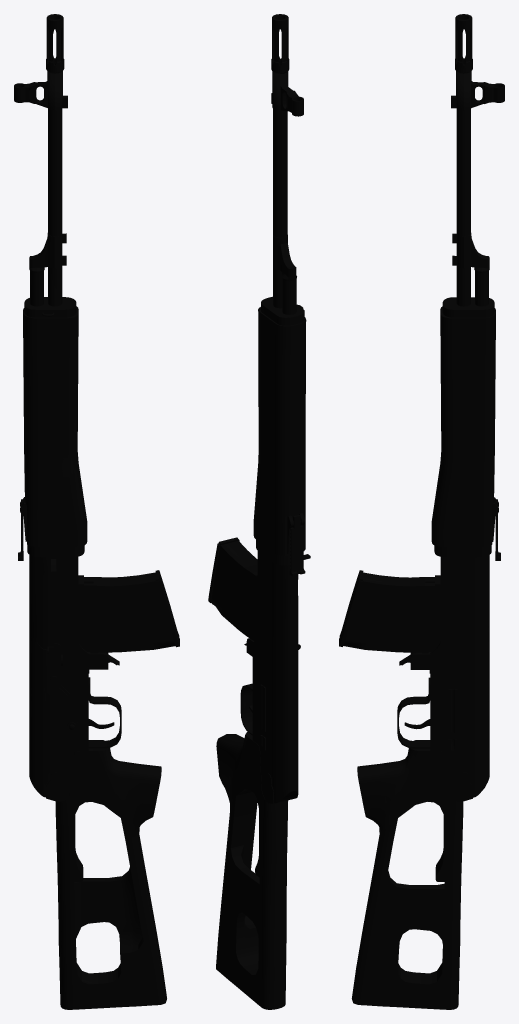
Rendered from SVD.fbx.
3 renders of one model, left to right at view 1: azimuth 90°, elevation 25°; view 2: azimuth 210°, elevation 25°; view 3: azimuth 270°, elevation 25°, orthographic.
Visible parts, largest first — view 1: asset_SVD.001; view 2: asset_SVD.001; view 3: asset_SVD.001.
Part boxes in pixels (x1,y1,x2,y2): asset_SVD.001: (14, 14, 179, 1009); asset_SVD.001: (208, 14, 310, 1009); asset_SVD.001: (339, 14, 504, 1009).
Size of the model in its own units: 0.0329 by 0.732 by 0.1115.
